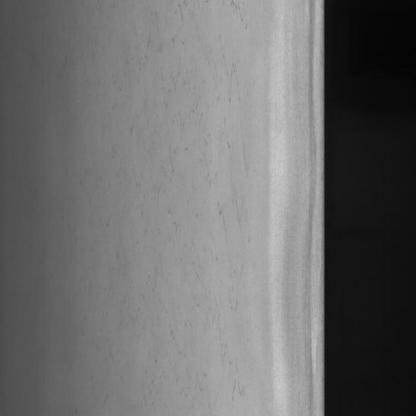silk_spot: (124, 10, 258, 385)
